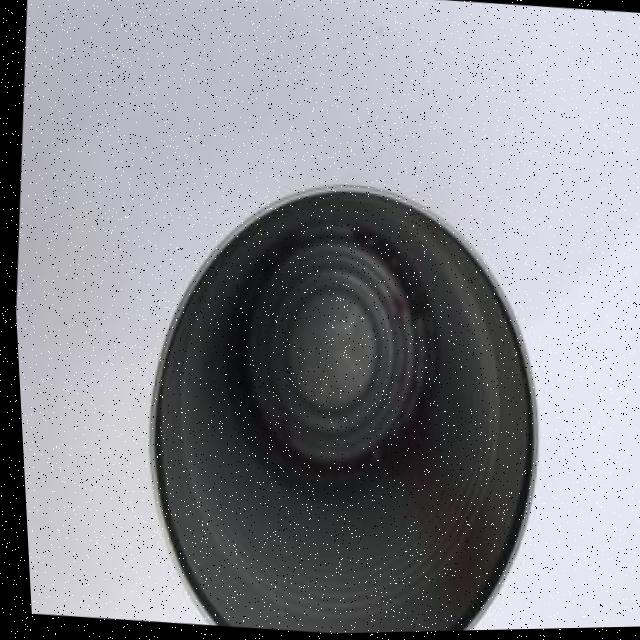metal: (119, 165, 565, 638)
